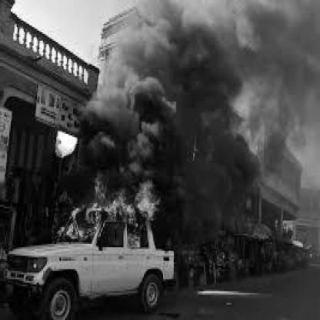Fire: (56, 169, 158, 245)
